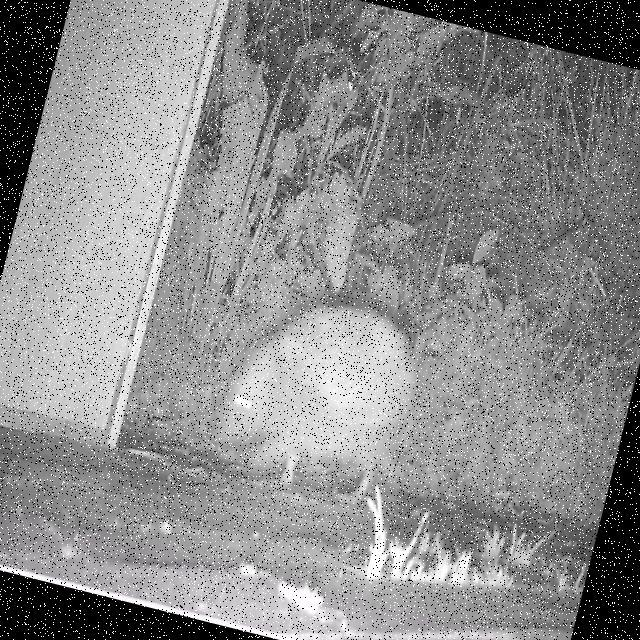Hedgehog: (208, 299, 412, 493)
